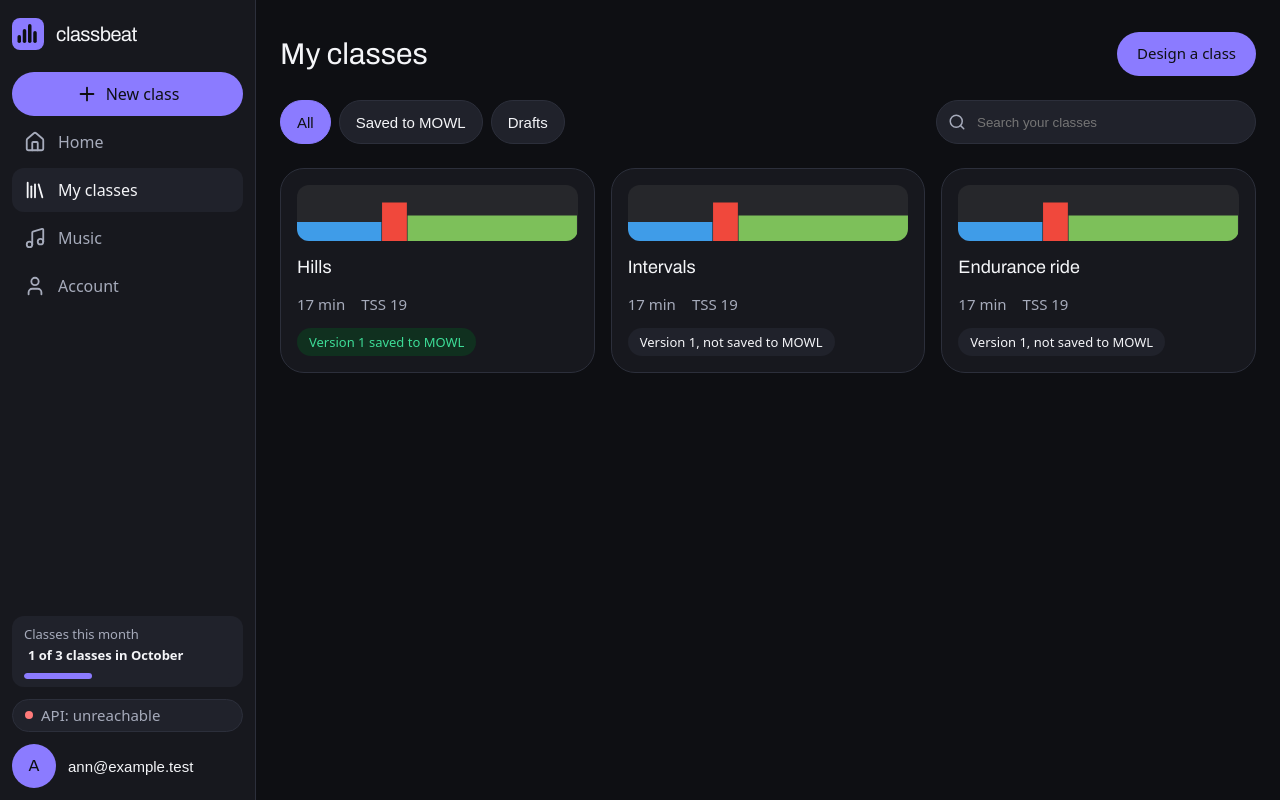
Test: My classes › filters with All, Saved to MOWL and Drafts, and searches by title on the client
Expected: the link "Hills" is shown, 297,257 -> 332,277
Click the button "Saved to MOWL" at (411, 122), box 339,100 -> 483,144
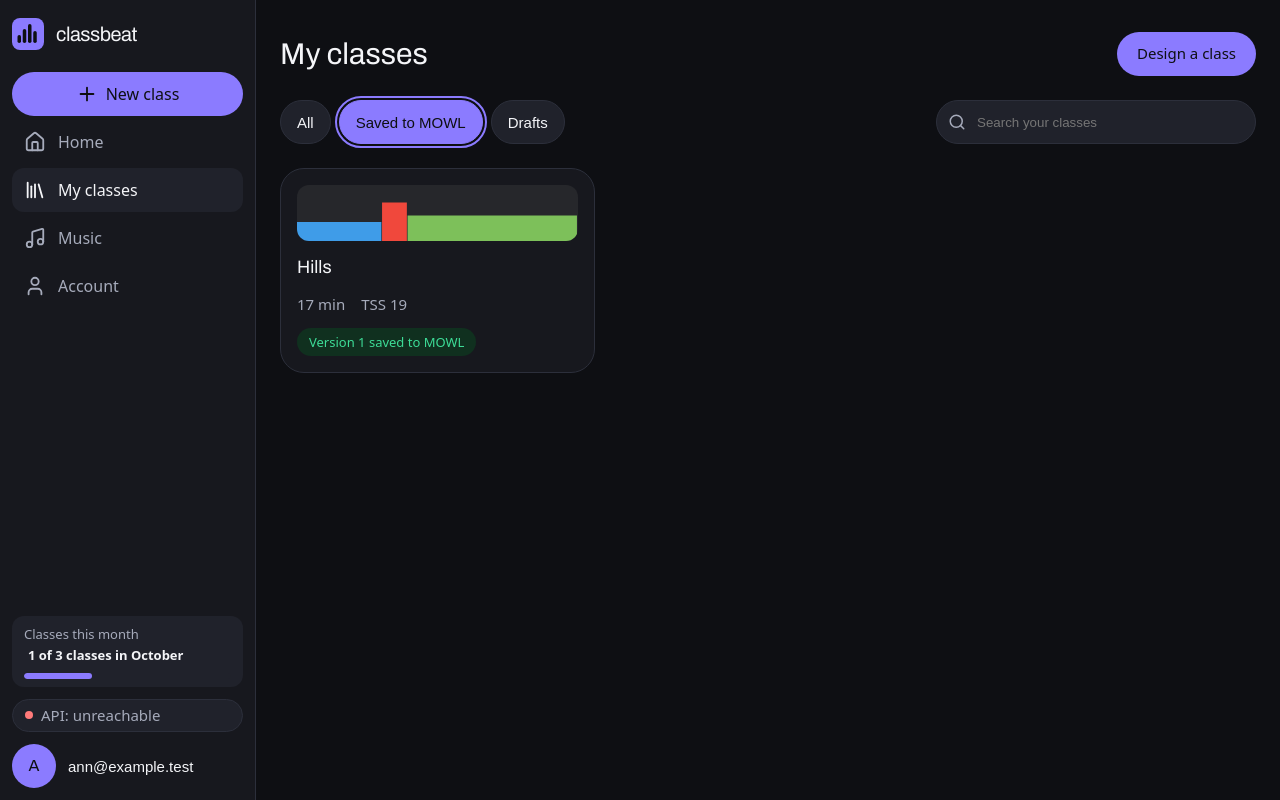
Click the button "Drafts" at (528, 122), box 491,100 -> 565,144
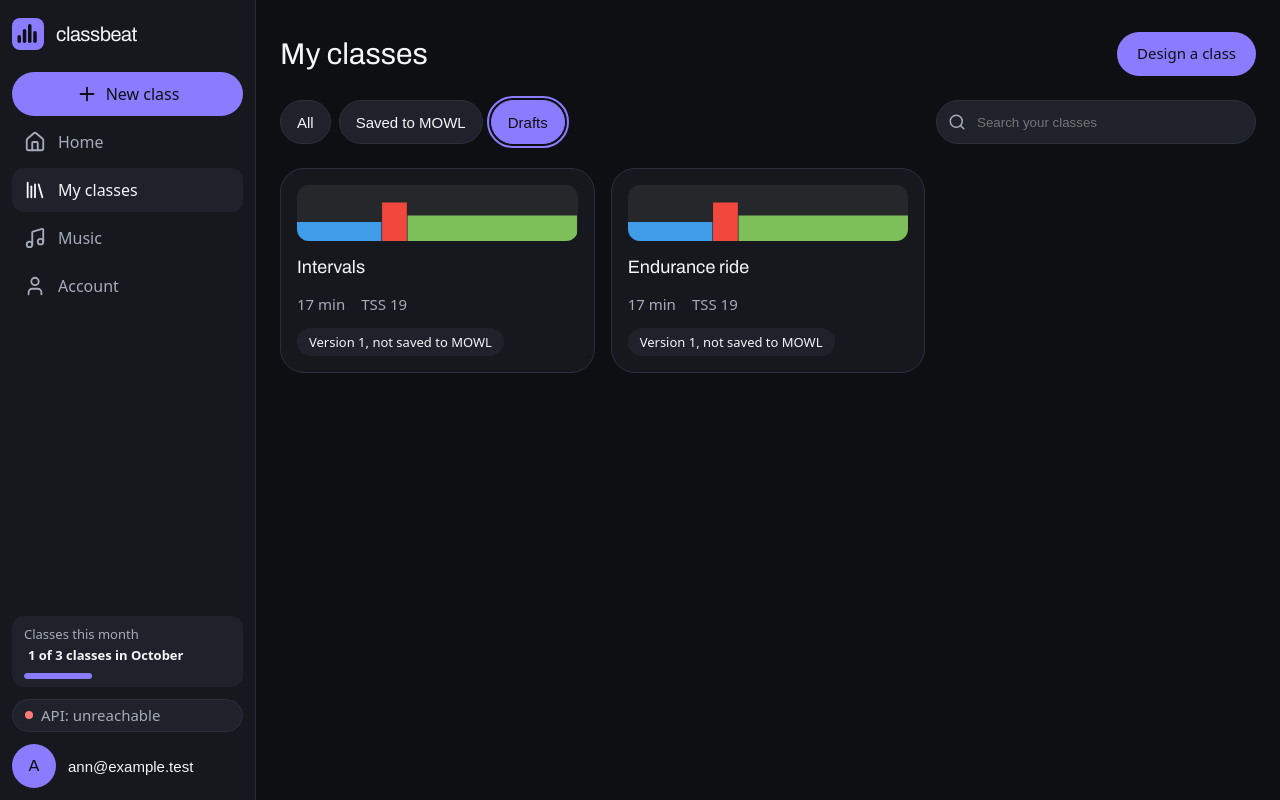
Click the button "All" at (305, 122), box 280,100 -> 331,144
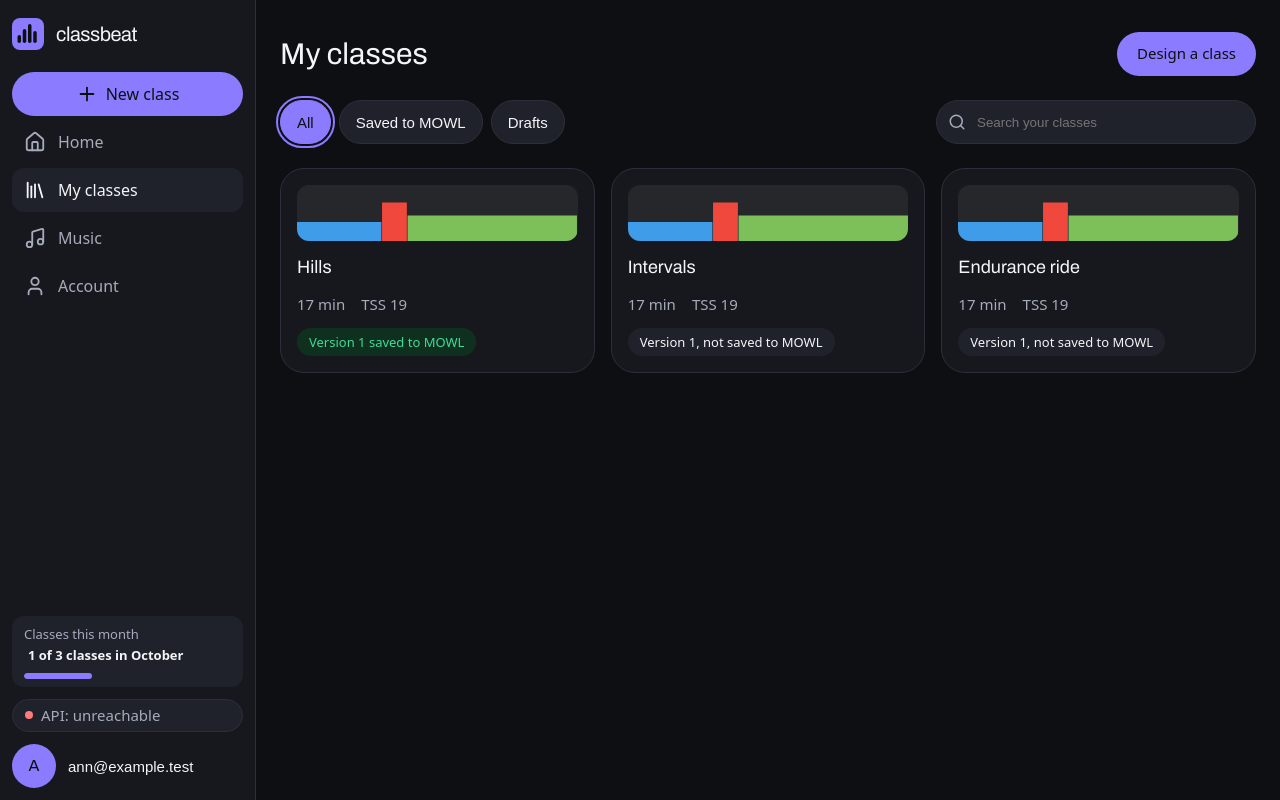
Type "ride" into the search field labelled "Search your classes" at (1096, 122), box 936,100 -> 1256,144
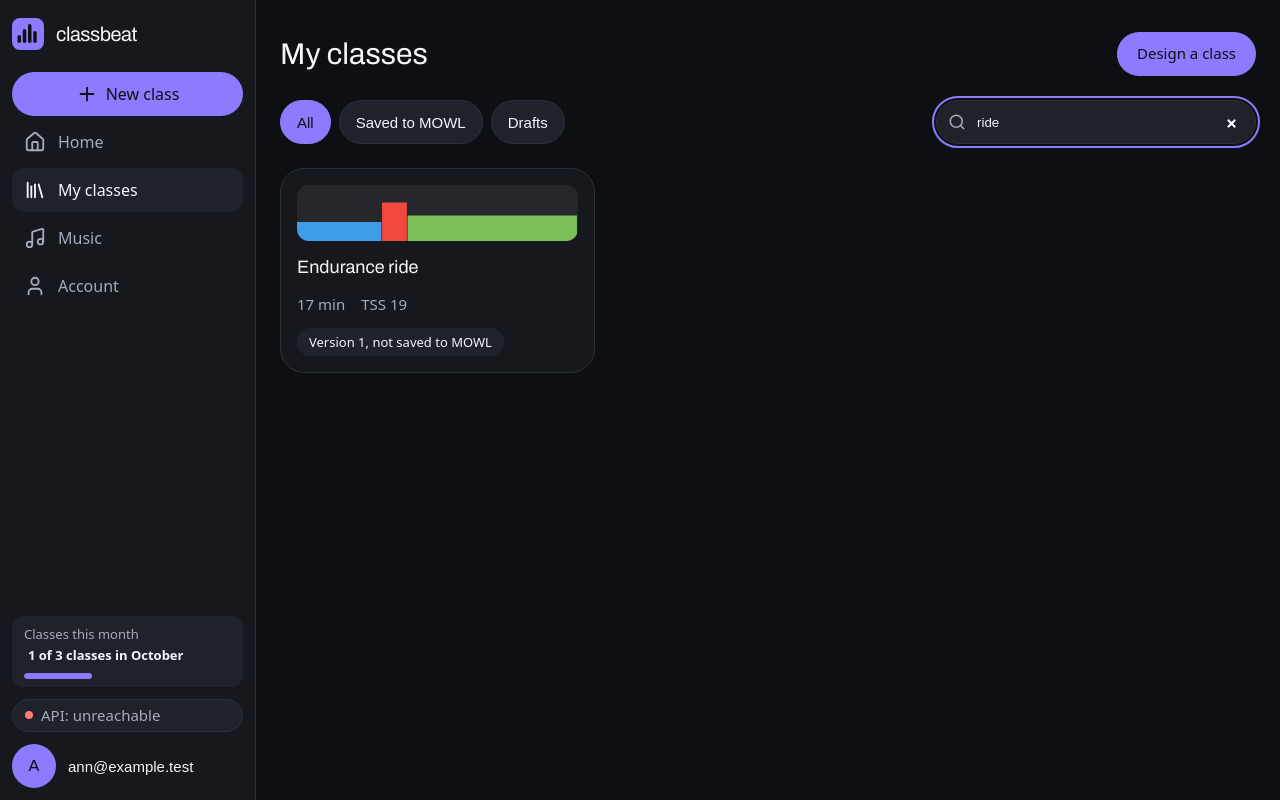
Replace the text in the search field named "Search your classes" with "zzz" at (1096, 122), box 936,100 -> 1256,144
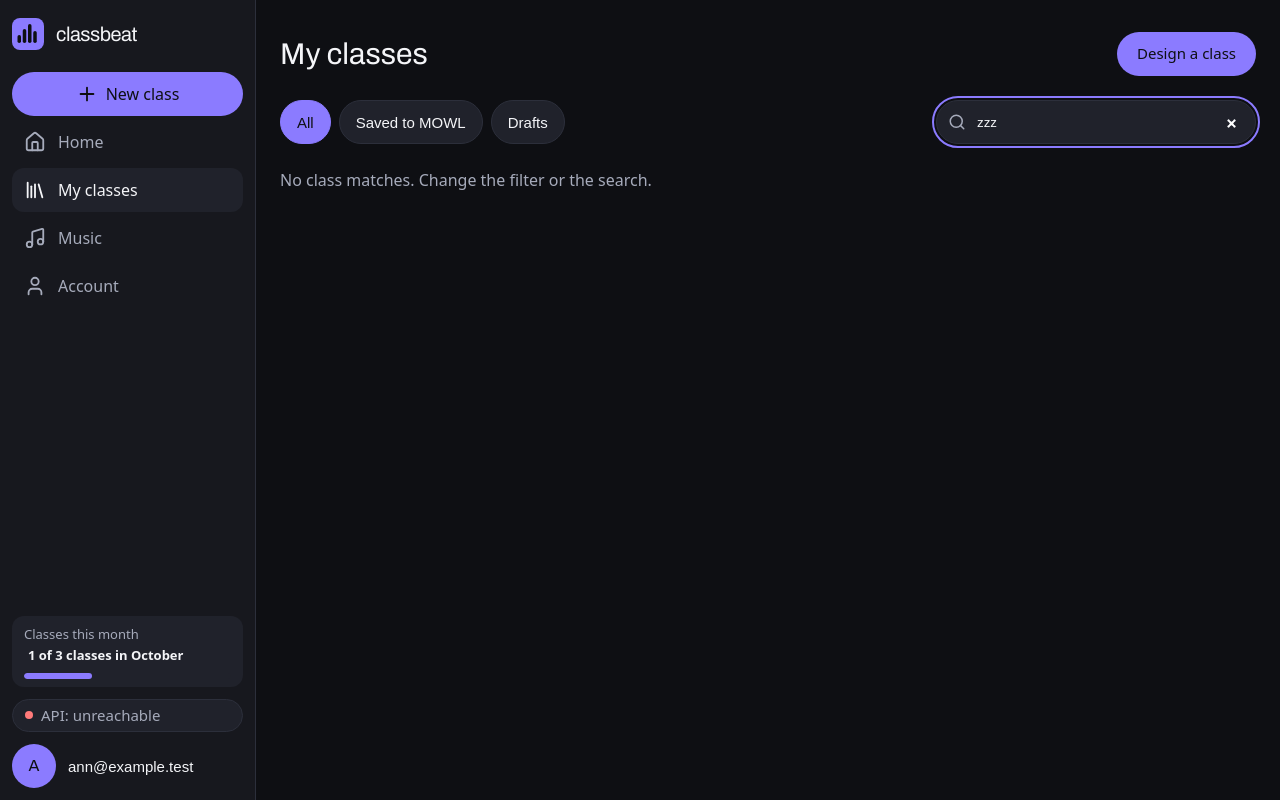
Now the text "No class matches. Change the filter or the search." is shown, box 280,169 -> 652,191
